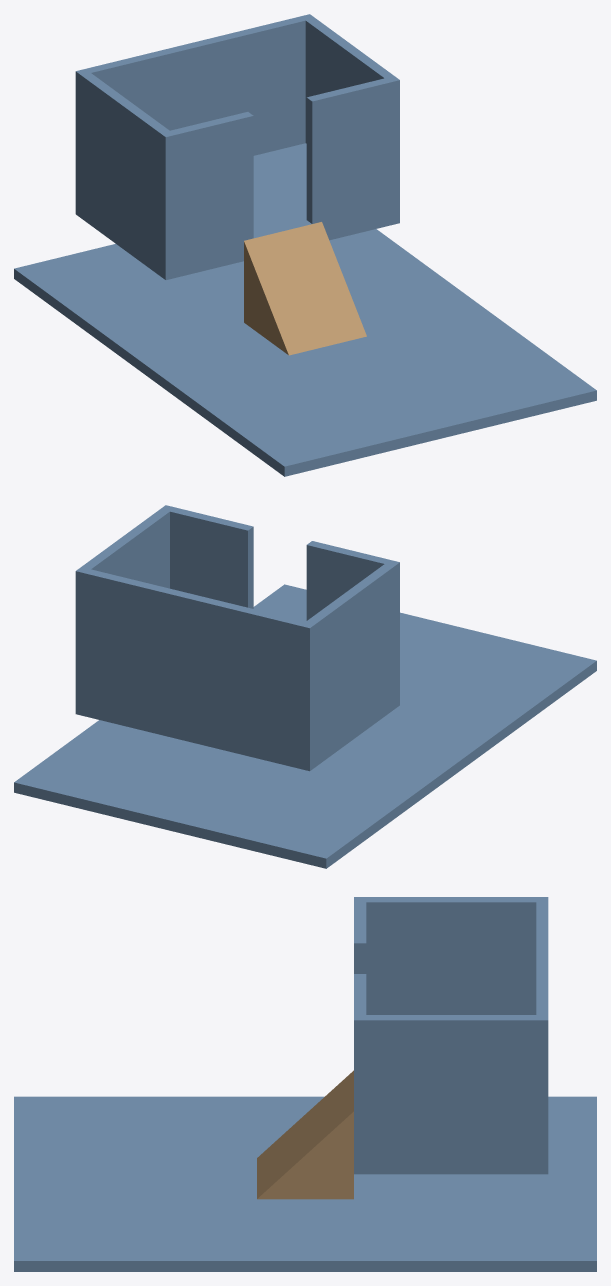
The model's file is building.glb.
3 renders of one model, top to bottom at view 1: azimuth 30°, elevation 25°; view 2: azimuth 150°, elevation 25°; view 3: azimuth 270°, elevation 25°, orthographic. The views are drawn at different scales.
Visible parts, largest first — view 1: lower-floor, wall-back, wall-left, ramp, wall-front-left, wall-front-right, upper-floor, wall-right; view 2: lower-floor, wall-back, wall-left, wall-front-right, upper-floor, wall-right, wall-front-left; view 3: lower-floor, wall-right, wall-left, ramp, upper-floor, wall-back, wall-front-right, wall-front-left.
Boxes of the visible parts, bbox=[...] form: lower-floor: bbox=[14, 229, 596, 476]; wall-back: bbox=[75, 14, 314, 197]; wall-left: bbox=[75, 69, 175, 259]; ramp: bbox=[244, 222, 366, 355]; wall-front-left: bbox=[160, 112, 253, 259]; wall-front-right: bbox=[306, 76, 399, 223]; upper-floor: bbox=[75, 143, 399, 279]; wall-right: bbox=[300, 14, 399, 204]; lower-floor: bbox=[14, 584, 596, 868]; wall-back: bbox=[75, 568, 315, 750]; wall-left: bbox=[300, 560, 399, 750]; wall-front-right: bbox=[163, 505, 253, 608]; upper-floor: bbox=[75, 685, 399, 771]; wall-right: bbox=[75, 505, 174, 695]; wall-front-left: bbox=[306, 541, 399, 687]; lower-floor: bbox=[14, 1096, 596, 1271]; wall-right: bbox=[354, 1015, 548, 1152]; wall-left: bbox=[354, 897, 548, 1014]; ramp: bbox=[257, 1070, 353, 1199]; upper-floor: bbox=[354, 1152, 548, 1174]; wall-back: bbox=[536, 897, 548, 1151]; wall-front-right: bbox=[354, 974, 366, 1151]; wall-front-left: bbox=[354, 897, 366, 973].
Bounding box in the file's own units: 128 × 84 × 192.
